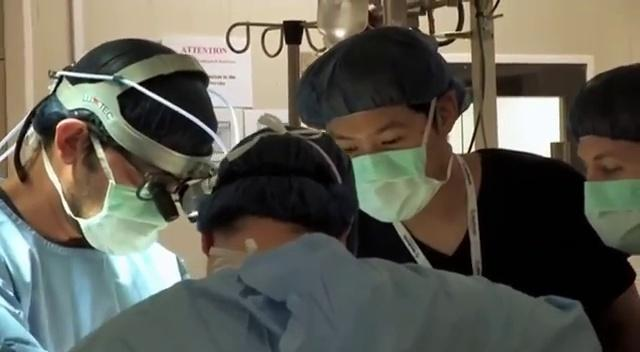doctor: (64, 116, 604, 351), (0, 36, 221, 351)
others: (295, 24, 638, 350), (571, 62, 640, 251)
